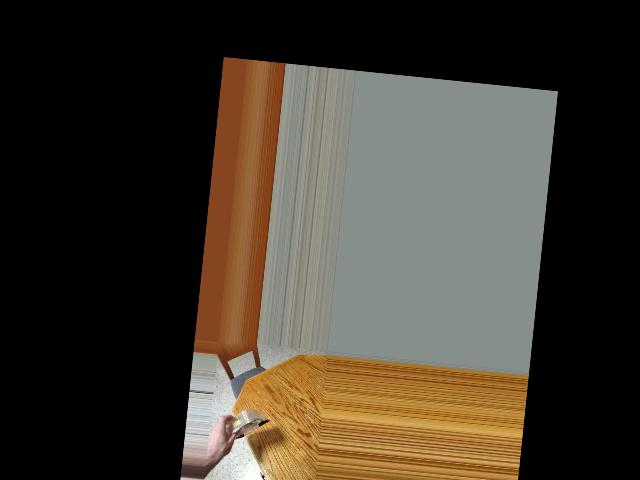cheese: (217, 400, 266, 457)
